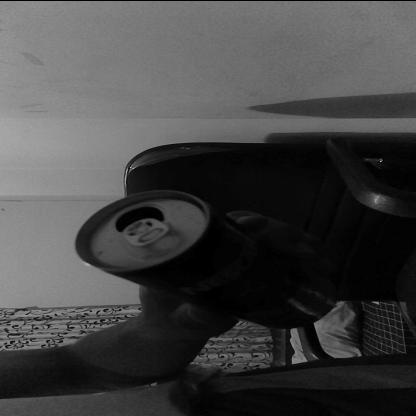alumunium_can: (66, 194, 336, 326)
